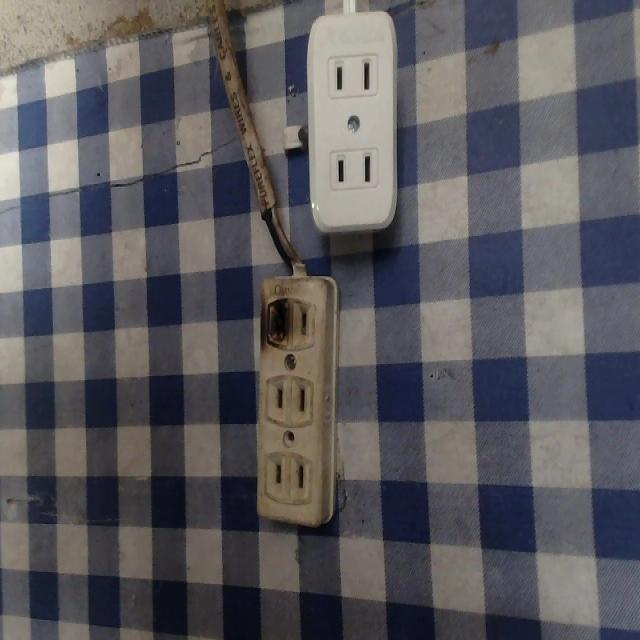-: (261, 284, 299, 355)
